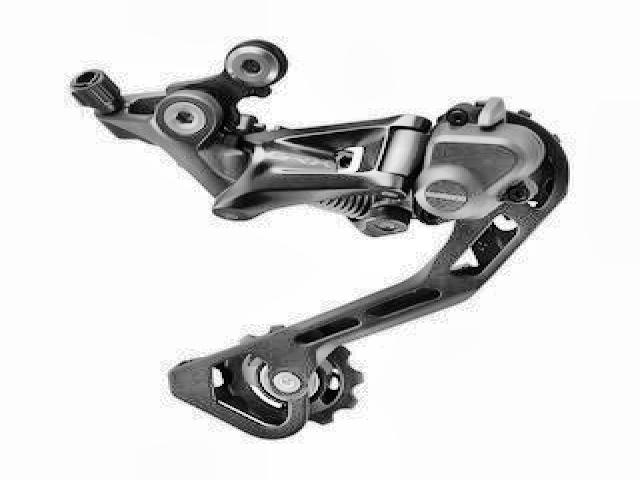rear_derailleur: (66, 37, 572, 440)
